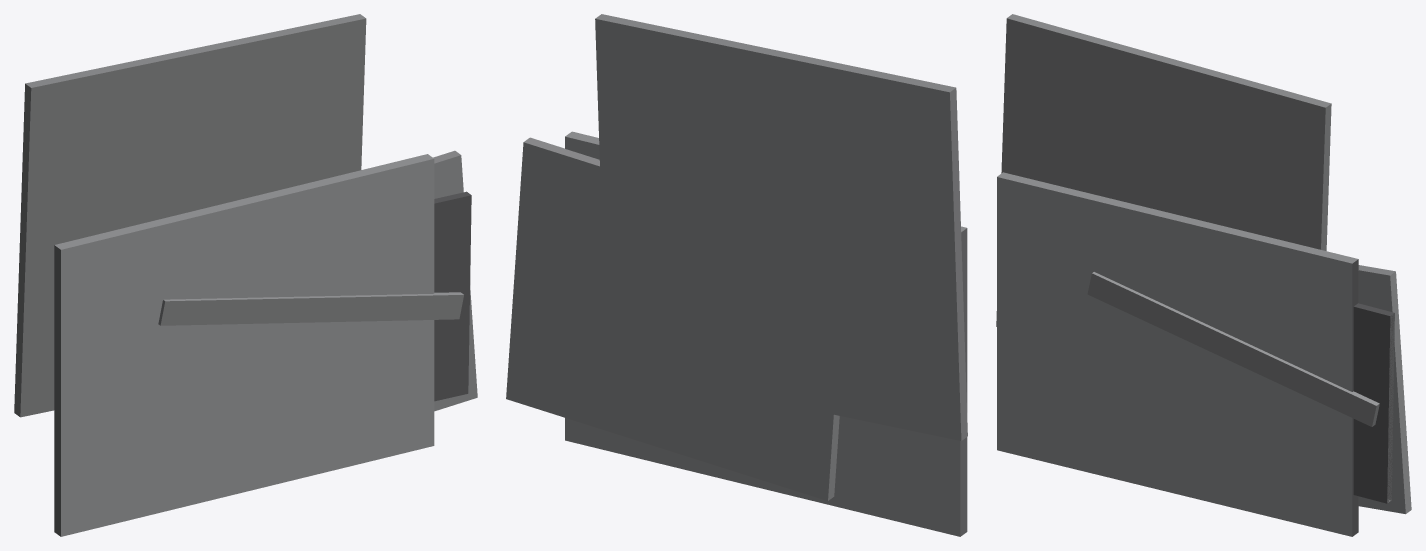
3 views of the same model, side by side, from view 1: azimuth 30°, elevation 25°; view 2: azimuth 150°, elevation 25°; view 3: azimuth 330°, elevation 25° (orthographic). The views are drawn at different scales.
Bounding box in the file's own units: 0.5823 × 0.5476 × 0.0645.
